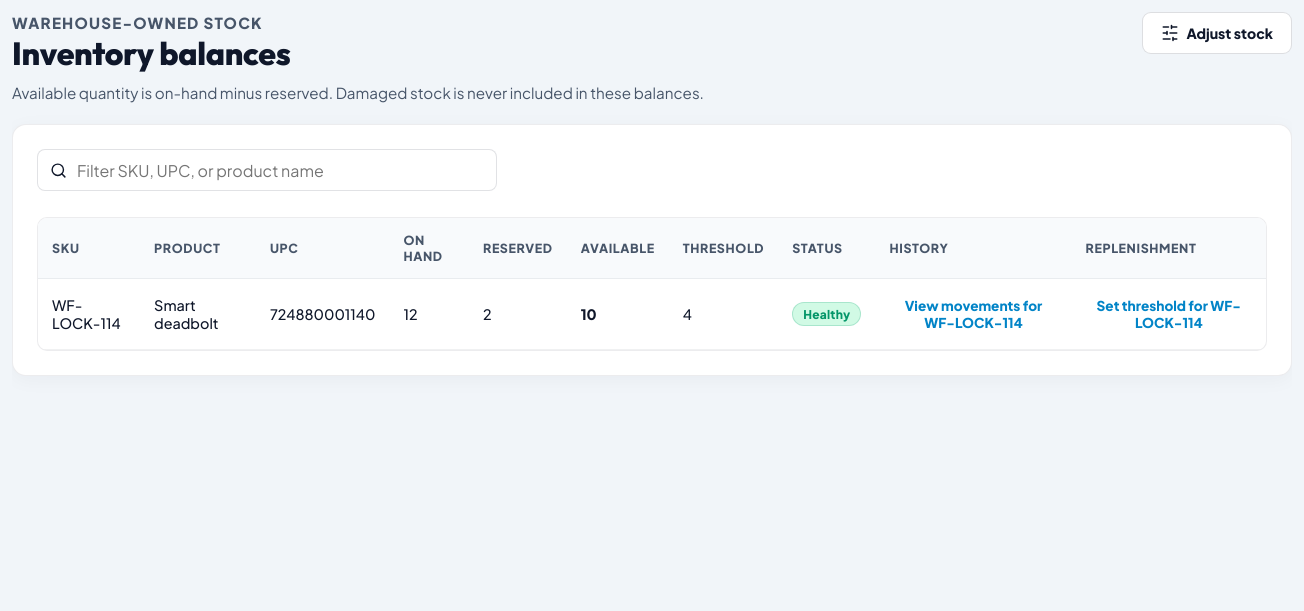
it: InventoryPage manager controls › loads immutable movement history for the selected warehouse product
Click the button "View movements for WF-LOCK-114". click: (973,314)
box: [889,293,1058,335]
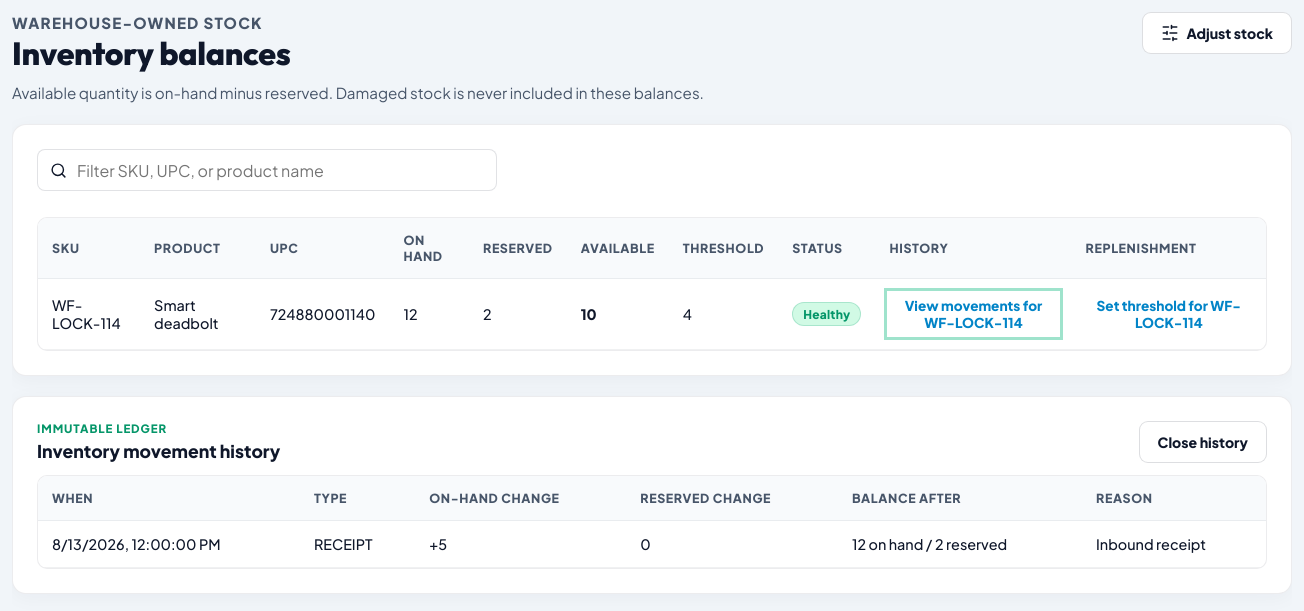
Result: the text "Inbound receipt" is shown at [1082,521,1266,568]
Result: the text "12 on hand / 2 reserved" is shown at [838,521,1082,568]
